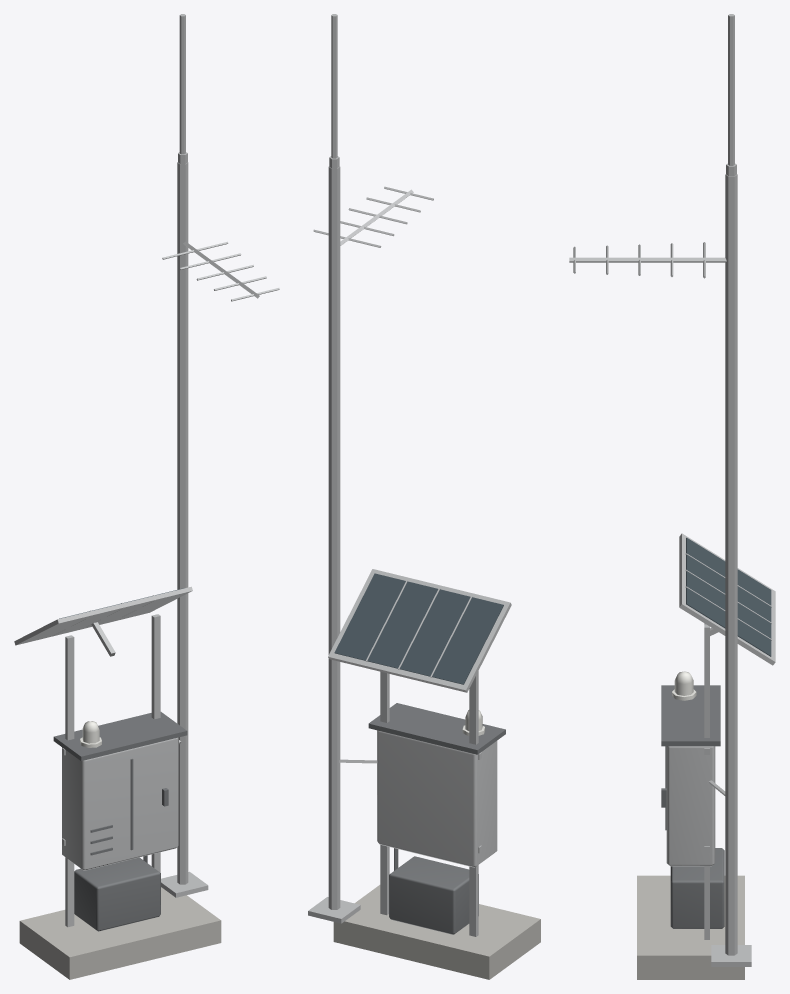
Rendered from rtu.glb.
3 renders of one model, left to right at view 1: azimuth 30°, elevation 25°; view 2: azimuth 150°, elevation 25°; view 3: azimuth 270°, elevation 25°, orthographic. The views are drawn at different scales.
Visible parts, largest first — view 1: RTU_PAD_KIT_steel, RTU_PAD_KIT_antenna, RTU_PAD_KIT_concrete, RTU_PAD_KIT_steel_dark; view 2: RTU_PAD_KIT_steel, RTU_PAD_KIT_antenna, RTU_PAD_KIT_glass, RTU_PAD_KIT_concrete, RTU_PAD_KIT_steel_dark; view 3: RTU_PAD_KIT_antenna, RTU_PAD_KIT_steel, RTU_PAD_KIT_concrete, RTU_PAD_KIT_steel_dark, RTU_PAD_KIT_glass, RTU_PAD_KIT_light.
Boxes of the visible parts, x1=… form: RTU_PAD_KIT_steel: x1=14, y1=586, x2=192, y2=927; RTU_PAD_KIT_antenna: x1=161, y1=14, x2=279, y2=897; RTU_PAD_KIT_concrete: x1=19, y1=887, x2=221, y2=979; RTU_PAD_KIT_steel_dark: x1=53, y1=712, x2=187, y2=931; RTU_PAD_KIT_steel: x1=328, y1=569, x2=511, y2=936; RTU_PAD_KIT_antenna: x1=308, y1=14, x2=433, y2=923; RTU_PAD_KIT_glass: x1=334, y1=573, x2=503, y2=684; RTU_PAD_KIT_concrete: x1=333, y1=885, x2=540, y2=979; RTU_PAD_KIT_steel_dark: x1=368, y1=703, x2=505, y2=934; RTU_PAD_KIT_antenna: x1=569, y1=14, x2=751, y2=966; RTU_PAD_KIT_steel: x1=666, y1=533, x2=775, y2=939; RTU_PAD_KIT_concrete: x1=637, y1=875, x2=744, y2=979; RTU_PAD_KIT_steel_dark: x1=661, y1=685, x2=724, y2=928; RTU_PAD_KIT_glass: x1=686, y1=537, x2=771, y2=656; RTU_PAD_KIT_light: x1=672, y1=671, x2=696, y2=700.
Size of the model in its own units: 1.75 by 7.9 by 1.53.
